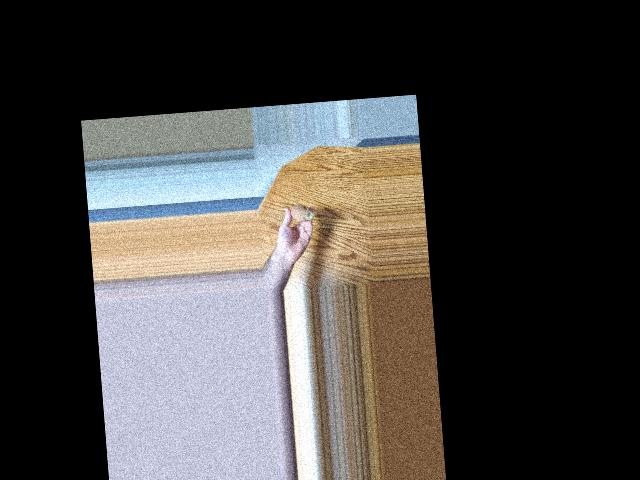sweet_potato: (286, 196, 313, 222)
